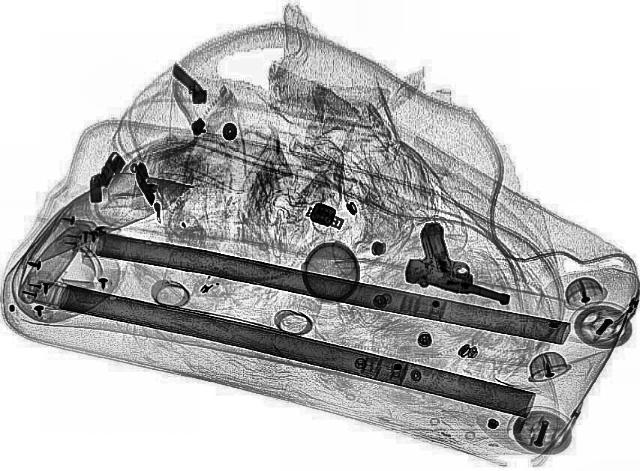Gun: (386, 215, 512, 321)
